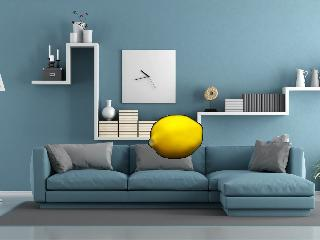lemon: (152, 116, 203, 159)
